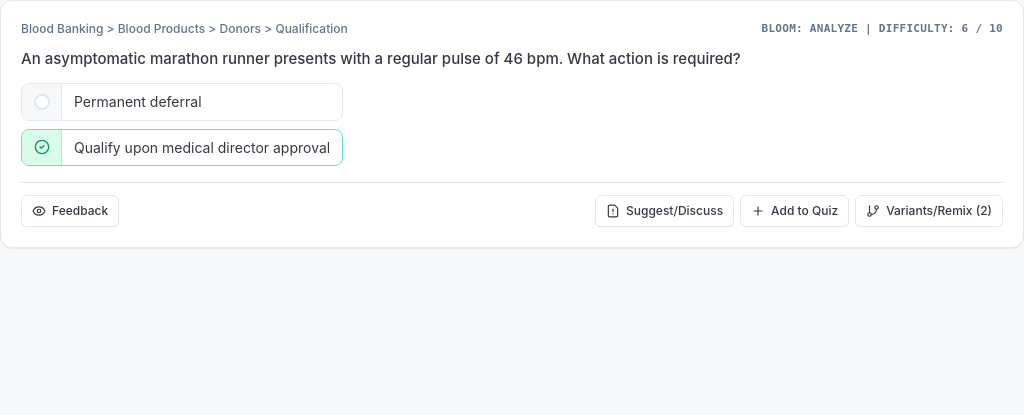
Test: QuestionCard › shows Reveal All when feedback is visible and toggles global reveal
Later steps or results of the test are not shown.
Click the button with aria-label "Show feedback" at (70,211), box [21,195,119,227]
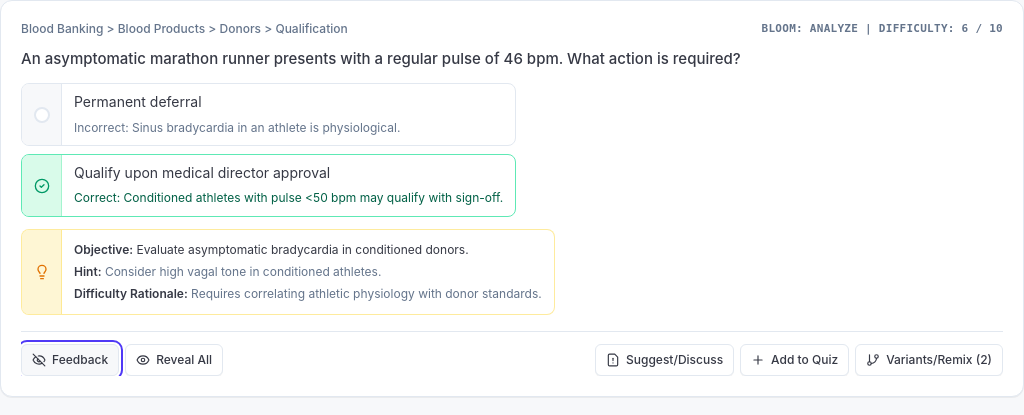
Check: the button with aria-label "Reveal feedback for all questions" is shown, box [125,344,223,376]
